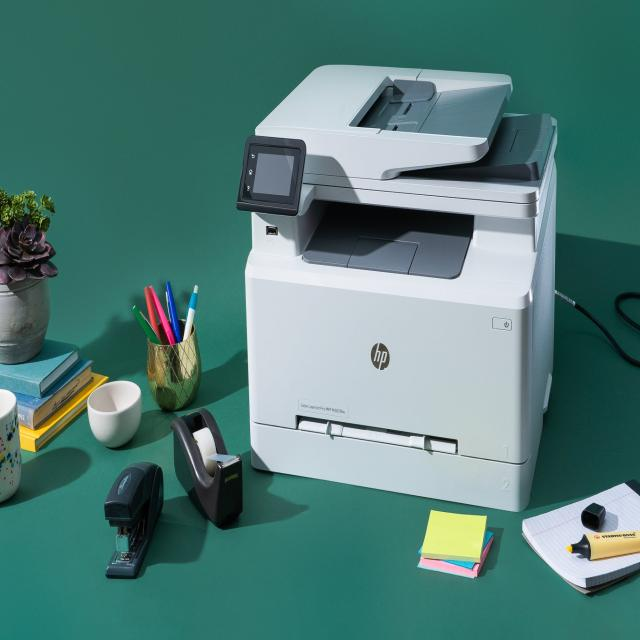printer: (236, 62, 558, 513)
